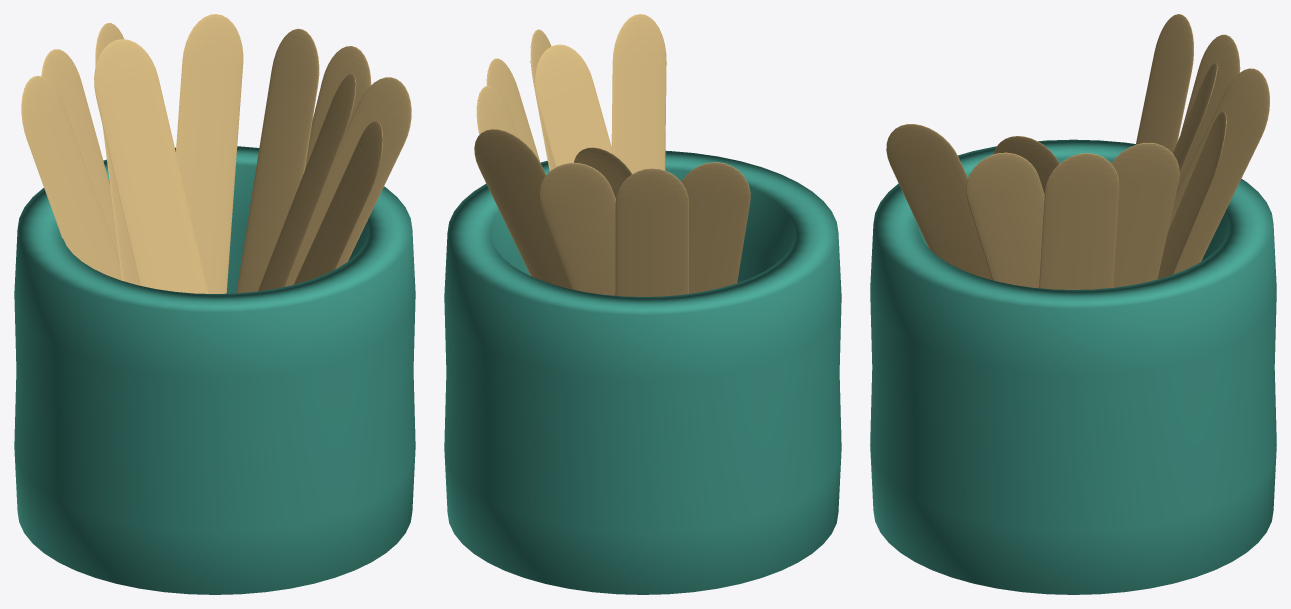
Rendered from paddlepop container.fbx.
3 renders of one model, left to right at view 1: azimuth 30°, elevation 25°; view 2: azimuth 150°, elevation 25°; view 3: azimuth 270°, elevation 25°, orthographic. The views are drawn at different scales.
Parts seen in each view (by area): view 1: Torus; view 2: Torus; view 3: Torus.
Boxes of the visible parts, x1,y1,x2,y2 form: Torus: (14, 14, 415, 594); Torus: (444, 14, 841, 594); Torus: (870, 14, 1276, 594).
Bounding box in the file's own units: 256 × 300 × 256.
